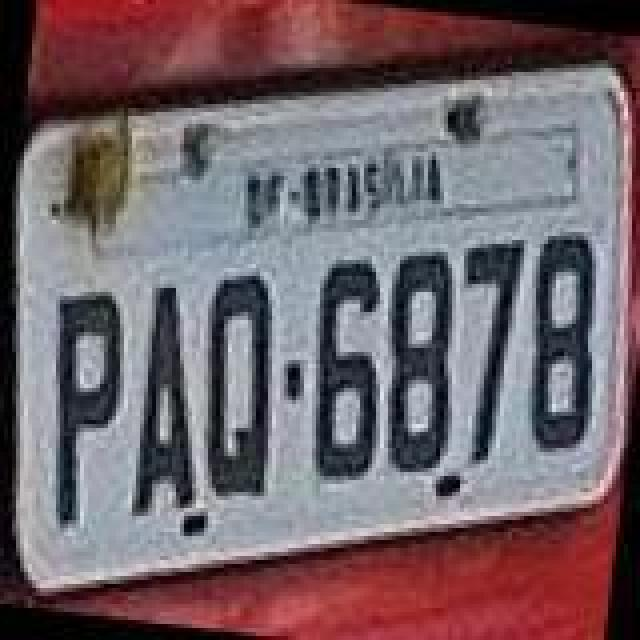6: (292, 252, 396, 484)
7: (438, 230, 530, 466)
8: (368, 242, 472, 478), (512, 230, 616, 458)
A: (128, 278, 224, 530)
P: (24, 284, 136, 532)
Q: (186, 266, 294, 502)
